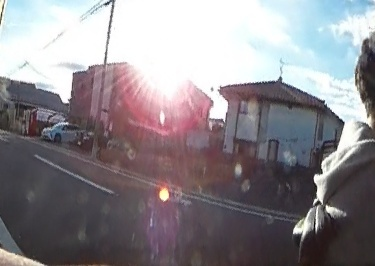person: (307, 22, 375, 264)
